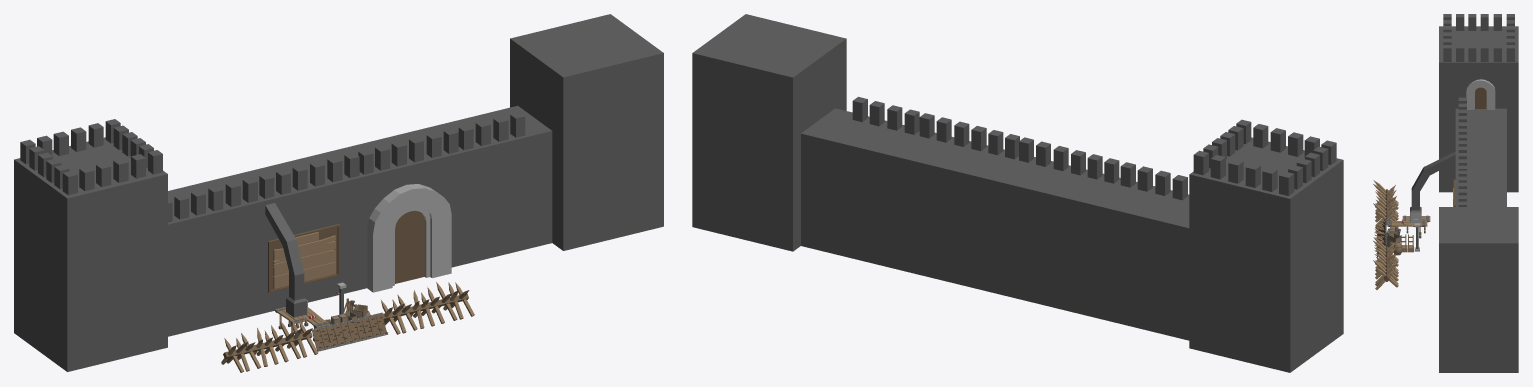
The model's file is PlayerAreaTest.fbx.
The picture shows the model from 3 angles, left to right: view 1: azimuth 30°, elevation 25°; view 2: azimuth 150°, elevation 25°; view 3: azimuth 270°, elevation 25°; orthographic projection. The views are drawn at different scales.
Visible parts, largest first — view 1: Environment_01:pCube43, pCube43, pCube60, pCylinder62, Environment_01:pCube7, Environment_01:pCube47, Environment_01:pCube37, Environment_01:pCube38, polySurface68, Environment_01:polySurface68, Environment_01:polySurface89, polySurface88 (+5 smaller); view 2: Environment_01:pCube43, pCube43, pCube60; view 3: pCube60, pCube43, Environment_01:pCube43, pCylinder63, Environment_01:pCube7, polySurface68, Environment_01:polySurface88, polySurface88, Environment_01:polySurface68, polySurface89, Environment_01:polySurface89, Environment_01:polySurface98 (+11 smaller).
Boxes of the visible parts, box(x1,y1,x2,y2) form: Environment_01:pCube43: box(168, 105, 552, 336); pCube43: box(14, 137, 167, 371); pCube60: box(510, 14, 663, 250); pCylinder62: box(367, 184, 451, 292); Environment_01:pCube7: box(265, 203, 307, 317); Environment_01:pCube47: box(268, 224, 340, 292); Environment_01:pCube37: box(311, 321, 352, 351); Environment_01:pCube38: box(347, 312, 388, 342); polySurface68: box(431, 282, 474, 320); Environment_01:polySurface68: box(275, 320, 318, 358); Environment_01:polySurface89: box(221, 333, 260, 372); polySurface88: box(407, 287, 444, 328); Environment_01:pCube43: box(801, 108, 1189, 340); pCube43: box(1189, 137, 1343, 372); pCube60: box(692, 14, 846, 251); pCube60: box(1439, 207, 1518, 372); pCube43: box(1439, 26, 1518, 192); Environment_01:pCube43: box(1455, 108, 1506, 206); pCylinder63: box(1466, 79, 1495, 109); Environment_01:pCube7: box(1410, 151, 1455, 222); polySurface68: box(1373, 260, 1398, 289); Environment_01:polySurface88: box(1375, 191, 1398, 222); polySurface88: box(1375, 248, 1398, 279); Environment_01:polySurface68: box(1373, 203, 1398, 231); polySurface89: box(1373, 237, 1398, 268); Environment_01:polySurface89: box(1373, 180, 1398, 211); Environment_01:polySurface98: box(1387, 220, 1427, 238).
Bounding box in the file's own units: 3265 × 1020 × 928.
